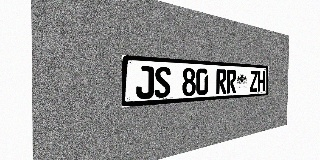0: (196, 68, 208, 96)
8: (182, 68, 196, 96)
H: (258, 71, 265, 92)
J: (136, 66, 154, 99)
R: (216, 69, 227, 94), (227, 70, 236, 94)
S: (154, 66, 171, 98)
Z: (250, 71, 258, 92)
